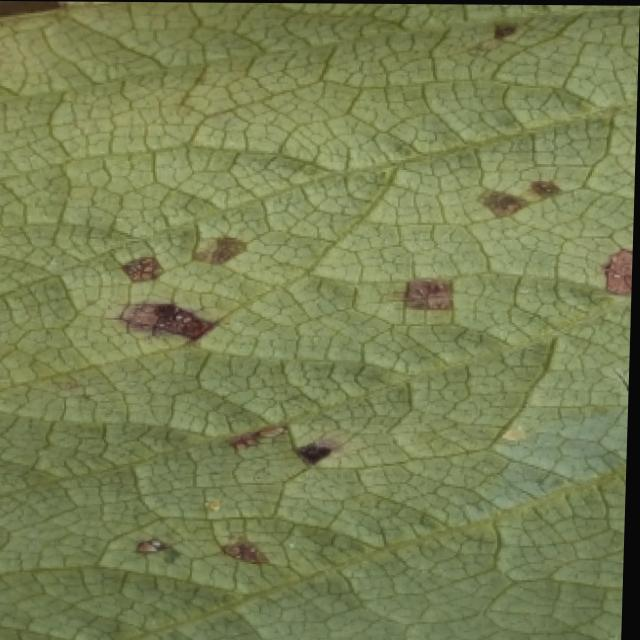Angular Leafspot: (34, 3, 638, 640)
